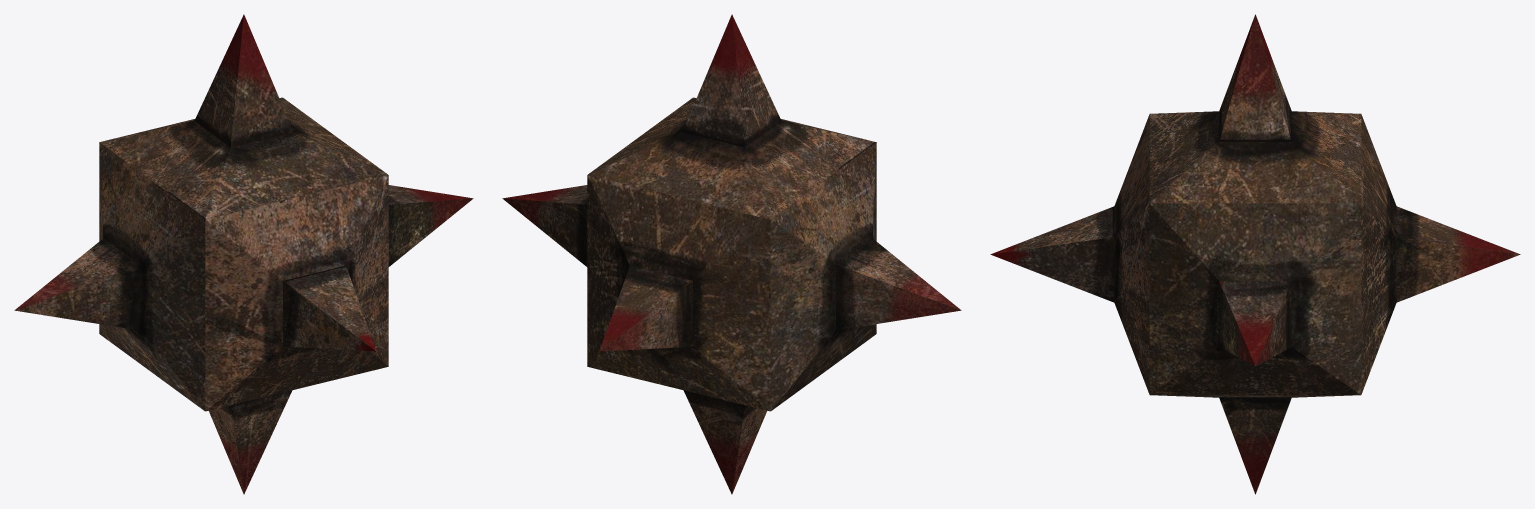
File: pincho3.fbx
3 renders of one model, left to right at view 1: azimuth 30°, elevation 25°; view 2: azimuth 150°, elevation 25°; view 3: azimuth 270°, elevation 25°, orthographic.
Parts seen in each view (by area): view 1: Cube; view 2: Cube; view 3: Cube.
Boxes of the visible parts, bbox=[...] form: Cube: bbox=[14, 14, 473, 494]; Cube: bbox=[502, 14, 961, 494]; Cube: bbox=[990, 14, 1520, 494].
Bounding box in the file's own units: 501 × 501 × 501.
1 material, 1 textured.
